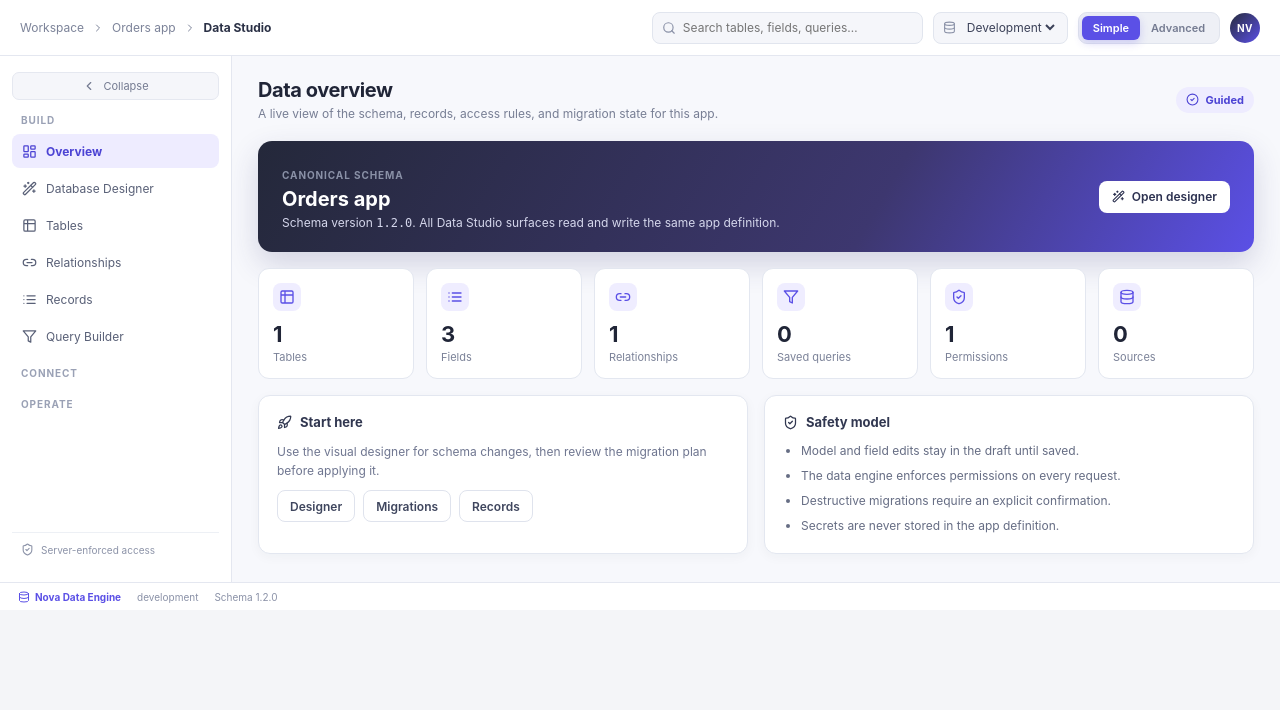
it: data studio › navigates sections and shows an explicit unavailable state for SQL editing
Click the button with aria-label "Advanced mode" at (1178, 28), box [1140, 16, 1216, 40]
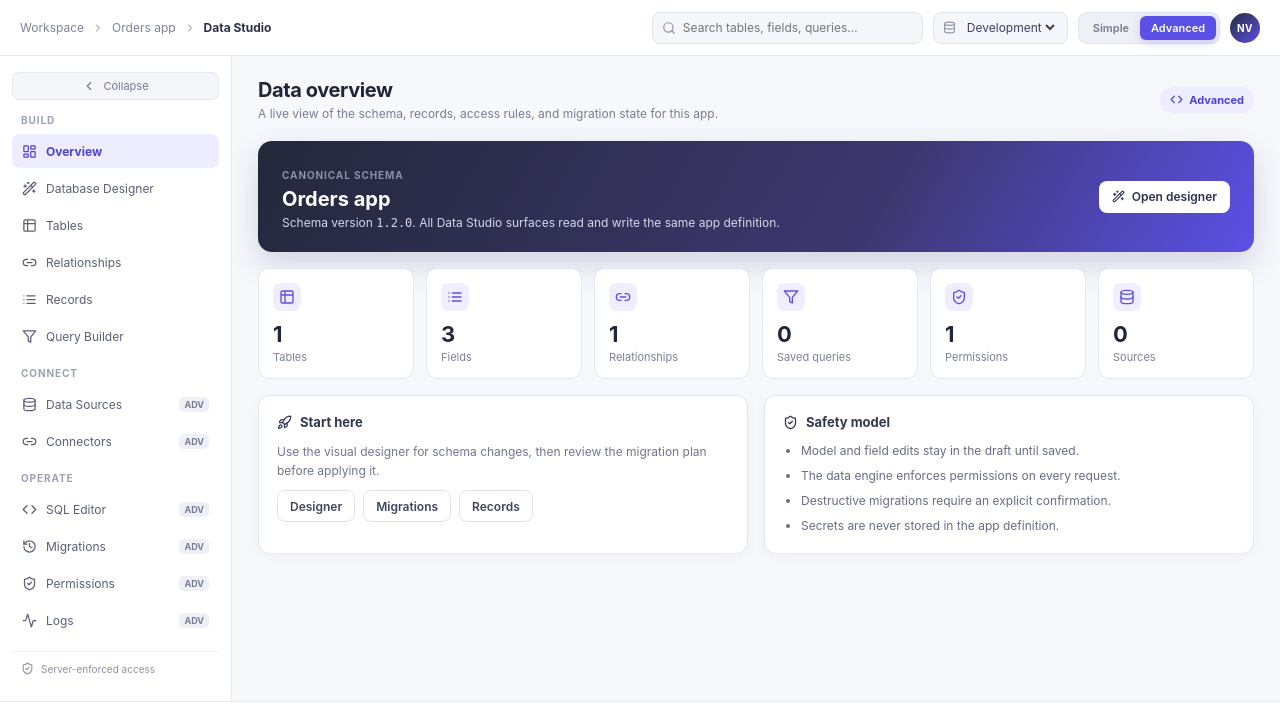
Check: the button with aria-label "Advanced mode" is pressed, box [1140, 16, 1216, 40]
Click the button "SQL Editor Adv" at (116, 509), box [12, 492, 219, 526]
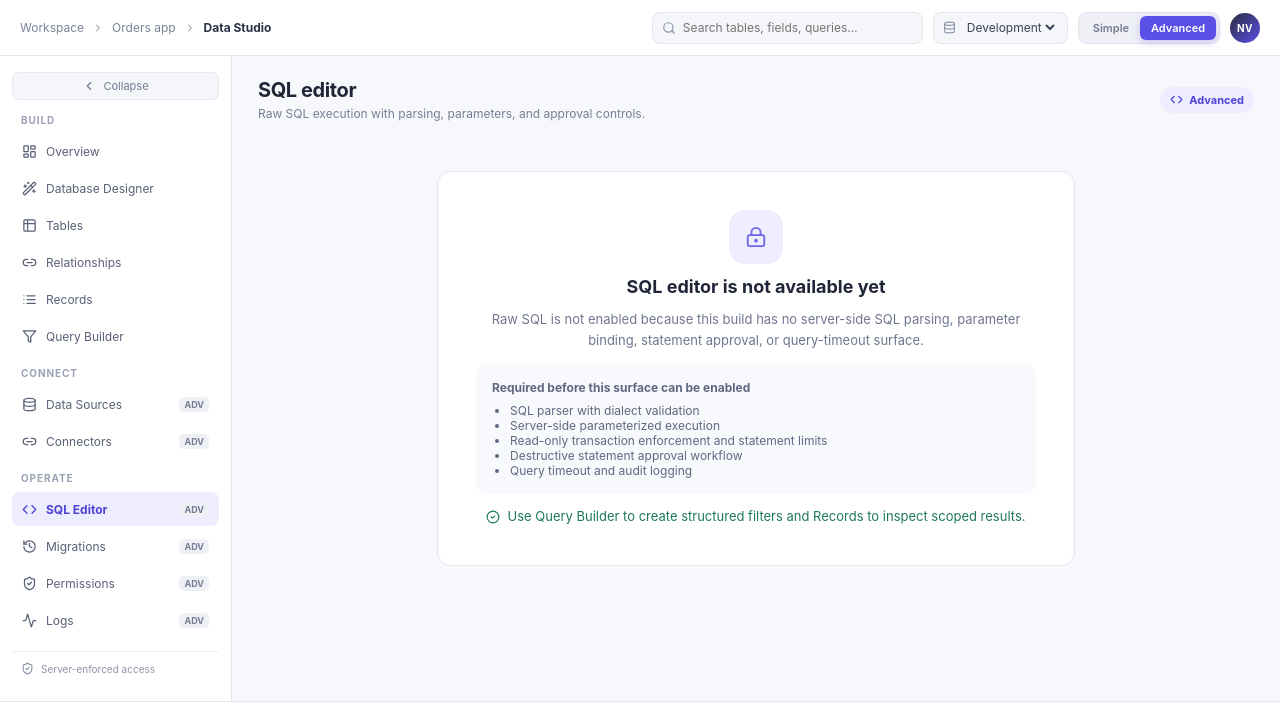
Check: the element with test id "unavailable-panel" is shown, box [437, 171, 1075, 566]
Check: the heading "SQL editor is not available yet" is shown, box [626, 276, 886, 297]
Check: the list item "Server-side parameterized execution" is shown, box [510, 418, 720, 433]
